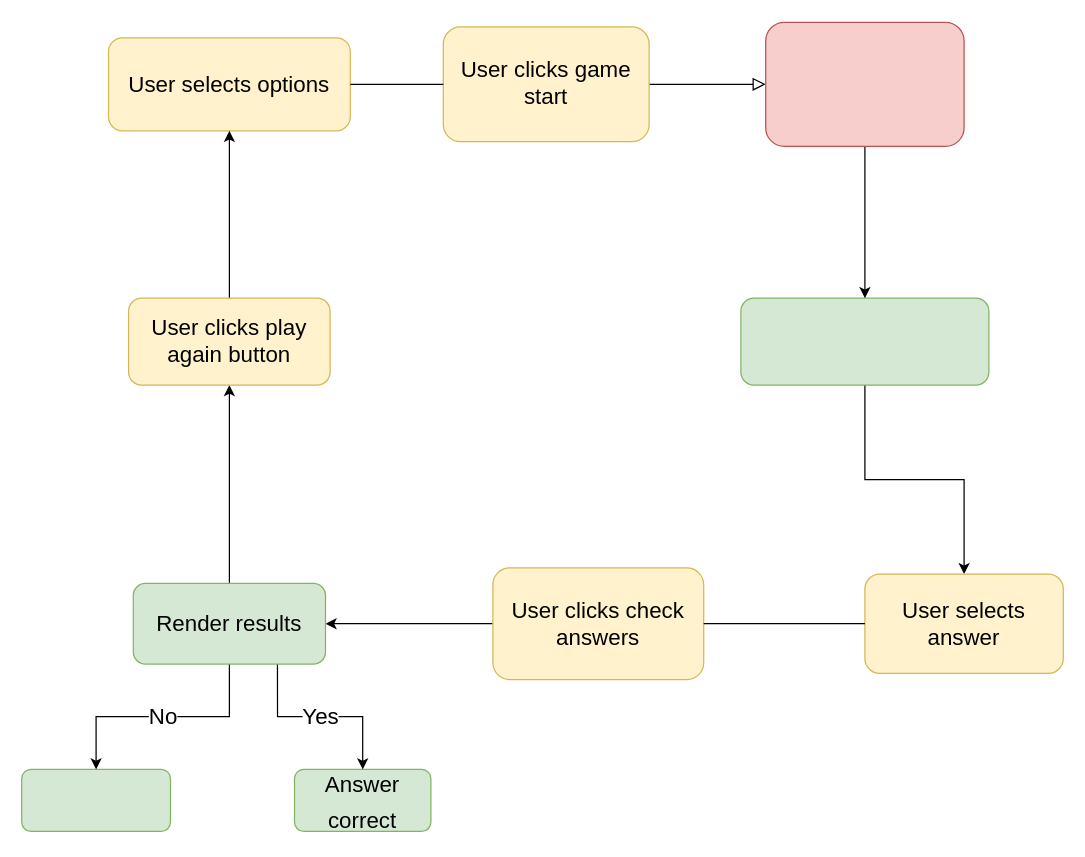
The diagram is 1085 pixels wide and 857 high, and some of its shapes have lost their labels. The shapes that lost their labels are listed below. From the top down, each one's box as (x1, y1, x2, y2) in pixels, then its label:
(764, 21, 964, 146): Render questions by options
(740, 297, 989, 385): Render questions result
(20, 768, 170, 831): Answer incorrect
